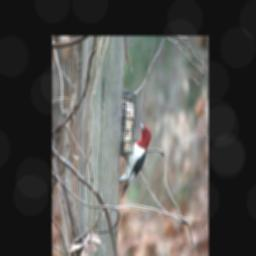Woodpecker: (116, 117, 154, 201)
